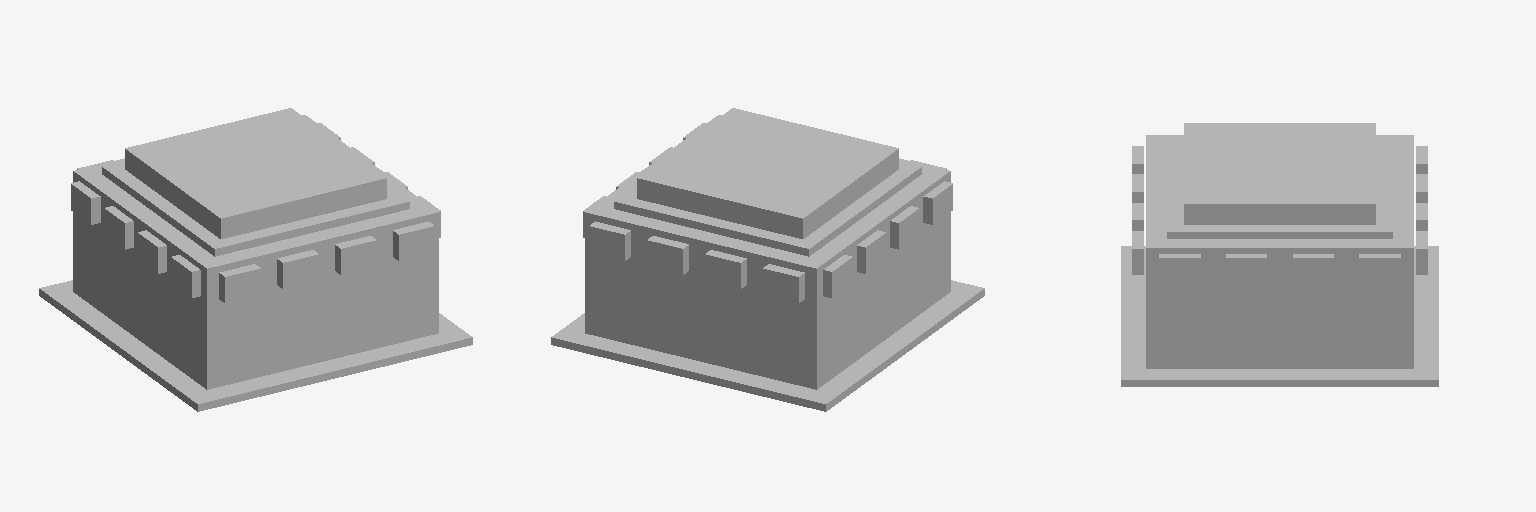
The model's file is rodopio.obj.
The picture shows the model from 3 angles: view 1: azimuth 30°, elevation 25°; view 2: azimuth 150°, elevation 25°; view 3: azimuth 270°, elevation 25°; orthographic projection.
Visible parts, largest first — view 1: corpo, topo2, piso, hang, topo1; view 2: corpo, topo2, piso, hang, topo1; view 3: corpo, topo2, piso, hang, topo1.
Boxes of the visible parts, x1=… form: corpo: x1=73, y1=115, x2=438, y2=389; topo2: x1=125, y1=108, x2=386, y2=238; piso: x1=39, y1=280, x2=472, y2=411; hang: x1=71, y1=123, x2=440, y2=303; topo1: x1=102, y1=161, x2=409, y2=256; corpo: x1=585, y1=115, x2=950, y2=389; topo2: x1=637, y1=108, x2=898, y2=238; piso: x1=551, y1=280, x2=984, y2=411; hang: x1=583, y1=123, x2=952, y2=303; topo1: x1=614, y1=161, x2=921, y2=256; corpo: x1=1146, y1=135, x2=1413, y2=368; topo2: x1=1184, y1=123, x2=1375, y2=224; piso: x1=1121, y1=246, x2=1438, y2=386; hang: x1=1132, y1=146, x2=1427, y2=284; topo1: x1=1167, y1=136, x2=1392, y2=238.
Size of the model in its own units: 4.75 by 3.06 by 4.75.